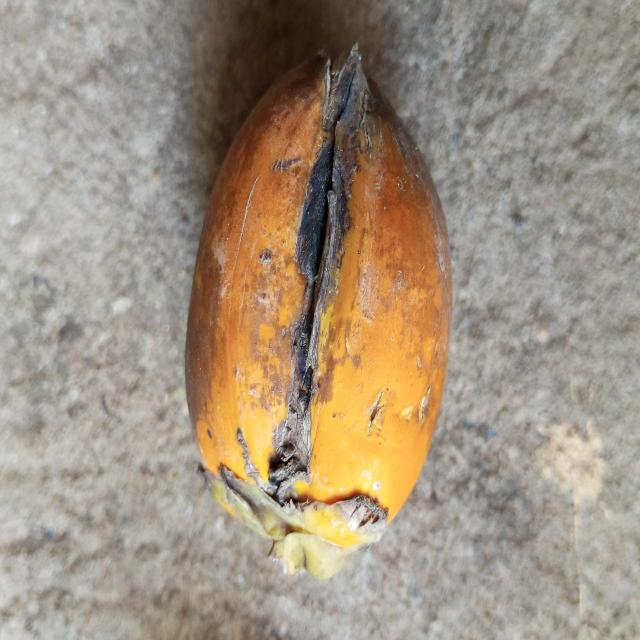damaged: (186, 44, 451, 577)
